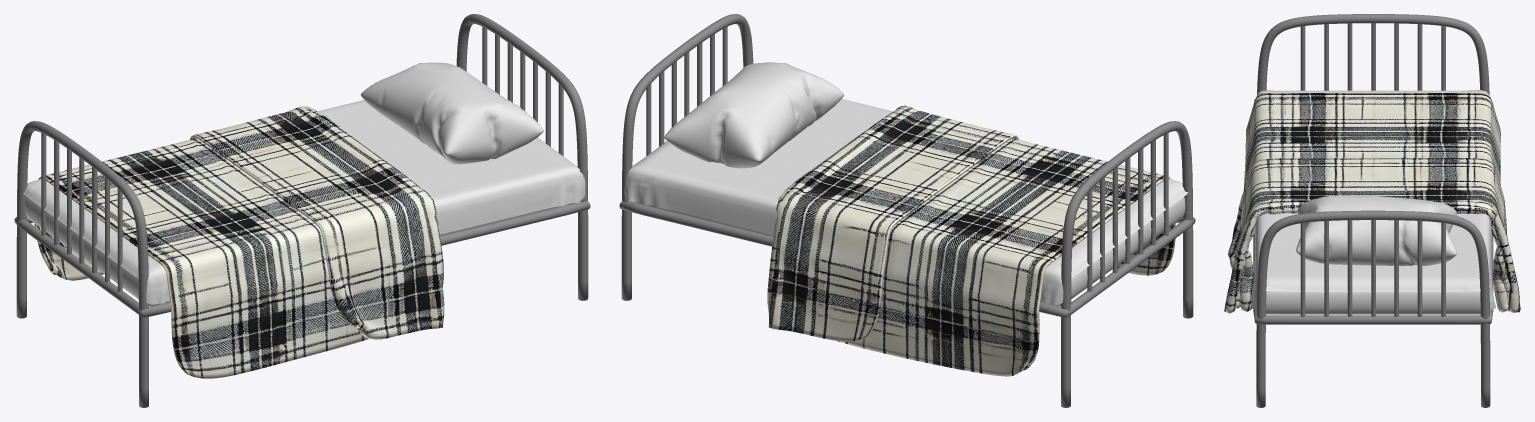
File: single_bed-v1.glb
3 views of the same model, side by side, from view 1: azimuth 30°, elevation 25°; view 2: azimuth 150°, elevation 25°; view 3: azimuth 270°, elevation 25° (orthographic). The views are drawn at different scales.
Parts seen in each view (by area): view 1: SM_Plaid, SM_Skeleton, SM_Sheet, SM_Pillow, SM_Mattress; view 2: SM_Plaid, SM_Skeleton, SM_Sheet, SM_Pillow, SM_Mattress; view 3: SM_Plaid, SM_Skeleton, SM_Sheet, SM_Pillow, SM_Mattress.
Part boxes in pixels (x1,y1,x2,y2): SM_Plaid: (34,106,444,378); SM_Skeleton: (14,14,590,407); SM_Sheet: (23,100,585,304); SM_Pillow: (361,62,543,164); SM_Mattress: (24,196,573,306); SM_Plaid: (767,105,1176,376); SM_Skeleton: (619,14,1195,407); SM_Sheet: (624,99,1188,305); SM_Pillow: (664,62,844,168); SM_Mattress: (633,197,1185,306); SM_Plaid: (1224,93,1520,313); SM_Skeleton: (1253,14,1493,407); SM_Sheet: (1250,90,1495,309); SM_Pillow: (1296,195,1456,265); SM_Mattress: (1266,291,1480,314).
Bounding box in the file's own units: 2.04 × 0.9193 × 1.27.
3 materials, 1 textured.
